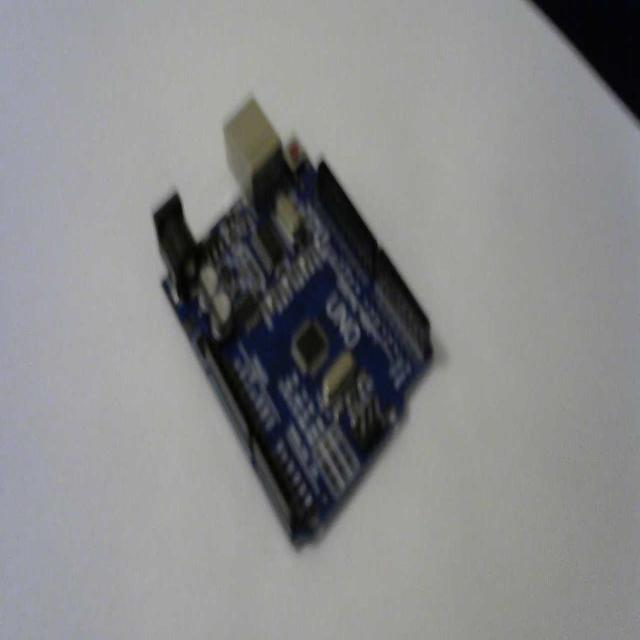arduino: (145, 88, 439, 556)
